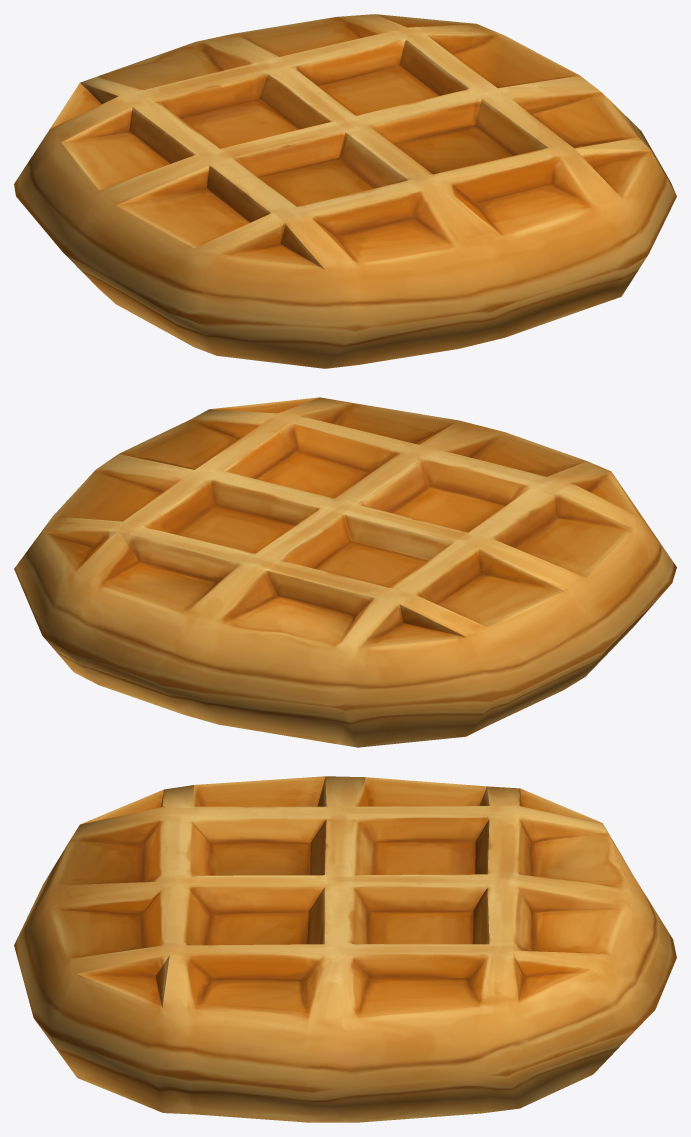
File: FOD0110021.fbx
3 renders of one model, top to bottom at view 1: azimuth 30°, elevation 25°; view 2: azimuth 150°, elevation 25°; view 3: azimuth 270°, elevation 25°, orthographic. The views are drawn at different scales.
Parts seen in each view (by area): view 1: smFOD0110021; view 2: smFOD0110021; view 3: smFOD0110021.
Boxes of the visible parts, left/top/right/bottom form: smFOD0110021: left=14, top=14, right=676, bottom=368; smFOD0110021: left=14, top=397, right=676, bottom=747; smFOD0110021: left=14, top=776, right=676, bottom=1122.
Bounding box in the file's own units: 14.09 × 3.29 × 13.91.
1 material, 1 textured.
